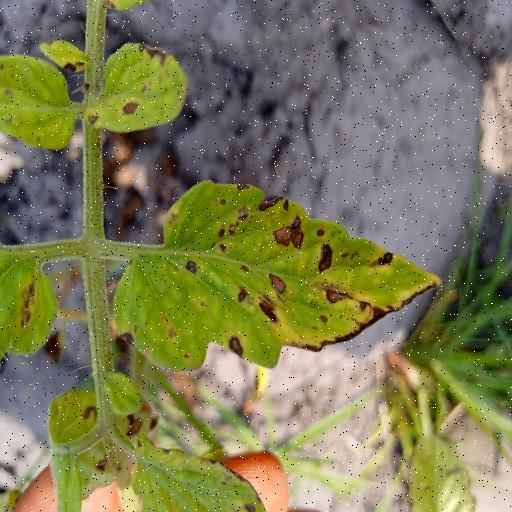Tomato_Brown_Spots: (104, 179, 443, 376), (94, 40, 193, 132), (0, 50, 83, 158)
